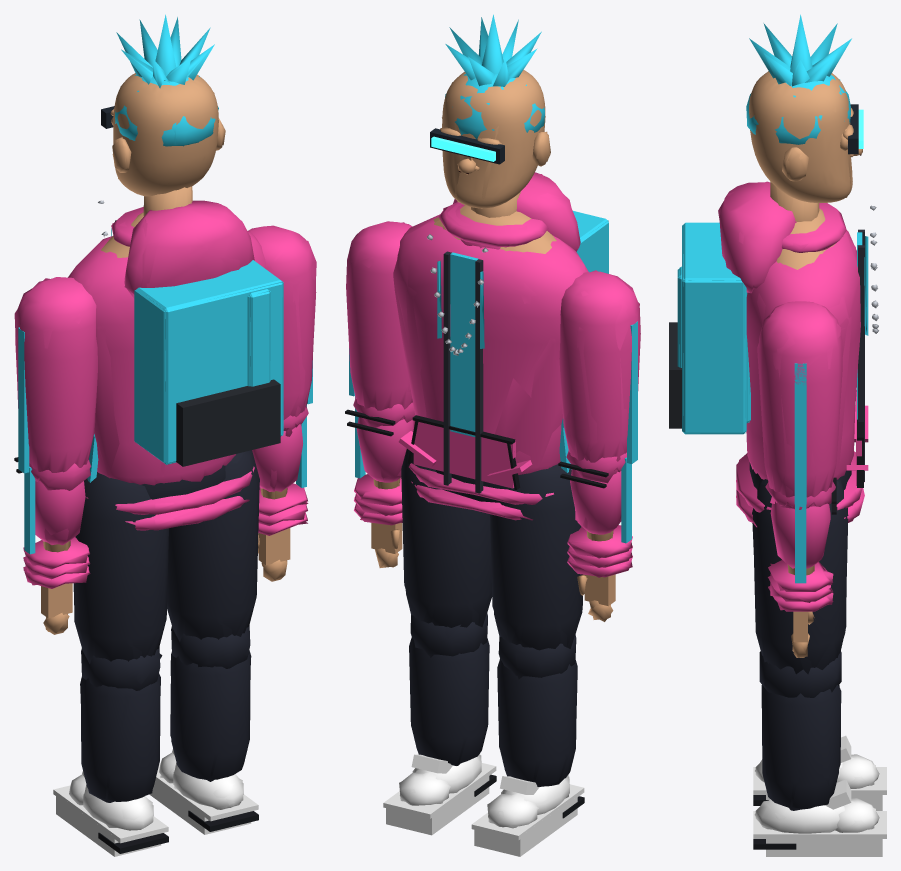
The model's file is char_neon.glb.
3 renders of one model, left to right at view 1: azimuth 30°, elevation 25°; view 2: azimuth 150°, elevation 25°; view 3: azimuth 270°, elevation 25°, orthographic. The views are drawn at different scales.
Parts seen in each view (by area): view 1: lod_low, torso_d_35e0ff, leg_L_pant, arm_L_sleeve, leg_R_pant, torso_jacket, head_skull, torso_hoodback, shin_L_pant, shin_R_pant, arm_R_sleeve, torso_d_top2 (+20 smaller); view 2: lod_low, torso_jacket, leg_L_pant, arm_L_sleeve, leg_R_pant, arm_R_sleeve, head_skull, shin_L_pant, shin_R_pant, torso_d_35e0ff, torso_d_top, torso_d_2c2f3a (+23 smaller); view 3: lod_low, torso_d_35e0ff, arm_R_sleeve, head_skull, torso_jacket, leg_R_pant, shin_R_pant, torso_hoodback, shin_R_d_ffffff, forearm_R_sleeve, shin_R_d_pants, head_d_hair (+16 smaller).
Boxes of the visible parts, x1,y1,x2,y2 form: lod_low: (14,14,316,856); torso_d_35e0ff: (134,260,283,464); leg_L_pant: (73,473,168,661); arm_L_sleeve: (15,277,97,481); leg_R_pant: (167,450,259,639); torso_jacket: (68,231,265,485); head_skull: (113,73,218,196); torso_hoodback: (124,200,254,298); shin_L_pant: (80,674,160,801); shin_R_pant: (170,654,250,779); arm_R_sleeve: (248,225,316,427); torso_d_top2: (87,228,270,482); lod_low: (347,14,639,856); torso_jacket: (394,214,588,474); leg_L_pant: (490,464,582,650); arm_L_sleeve: (559,271,640,472); leg_R_pant: (401,449,491,627); arm_R_sleeve: (346,221,412,420); head_skull: (442,70,545,208); shin_L_pant: (499,659,576,784); shin_R_pant: (411,640,488,763); torso_d_35e0ff: (450,211,608,436); torso_d_top: (398,420,532,488); torso_d_2c2f3a: (443,251,483,493); lod_low: (669,14,882,856); torso_d_35e0ff: (682,222,862,434); arm_R_sleeve: (759,301,842,509); head_skull: (749,71,852,202); torso_jacket: (746,230,860,479); leg_R_pant: (753,479,848,674); shin_R_pant: (761,685,839,809); torso_hoodback: (719,182,795,293); shin_R_d_ffffff: (755,781,879,833); forearm_R_sleeve: (770,501,830,568); shin_R_d_pants: (759,651,841,697); head_d_hair: (749,15,851,86).
Size of the model in its own units: 0.7703 by 2.07 by 0.505.
